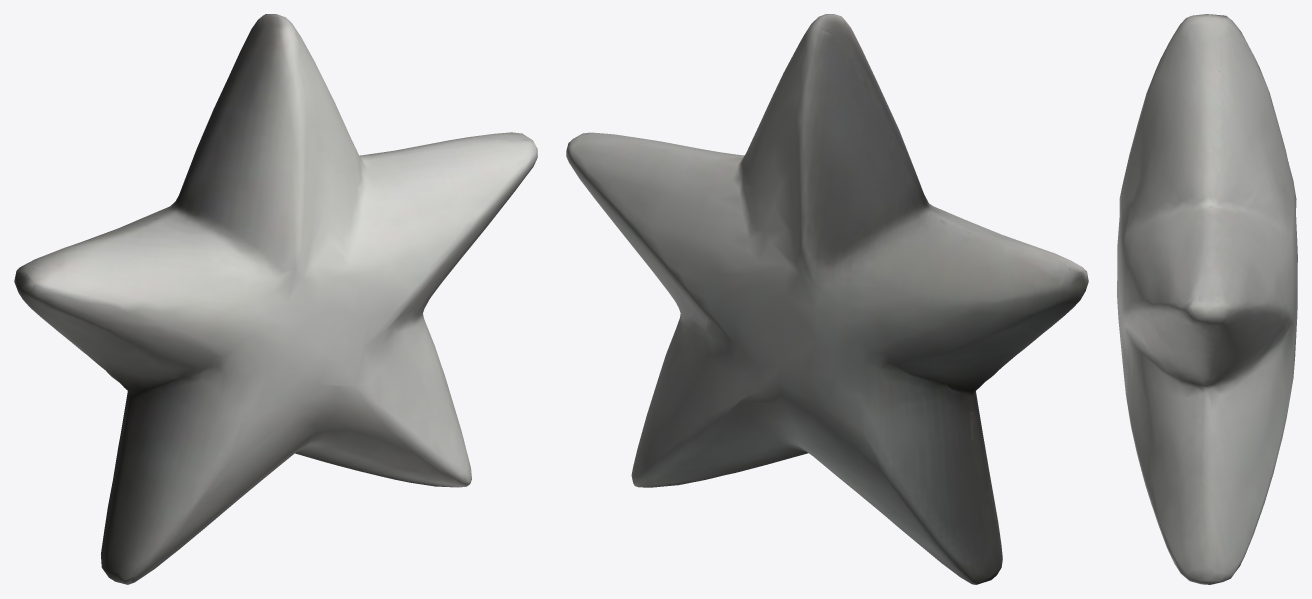
The model's file is m2NeutralStar.glb.
3 views of the same model, side by side, from view 1: azimuth 30°, elevation 25°; view 2: azimuth 150°, elevation 25°; view 3: azimuth 270°, elevation 25° (orthographic). The views are drawn at different scales.
Parts seen in each view (by area): view 1: model; view 2: model; view 3: model.
Boxes of the visible parts, x1,y1,x2,y2 form: model: (14,14,537,584); model: (566,14,1088,584); model: (1117,14,1297,584).
Bounding box in the file's own units: 1.9 × 1.85 × 0.6052.
1 material, 1 textured.
